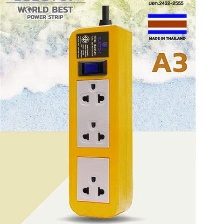three_eye_plug: (61, 21, 137, 221)
